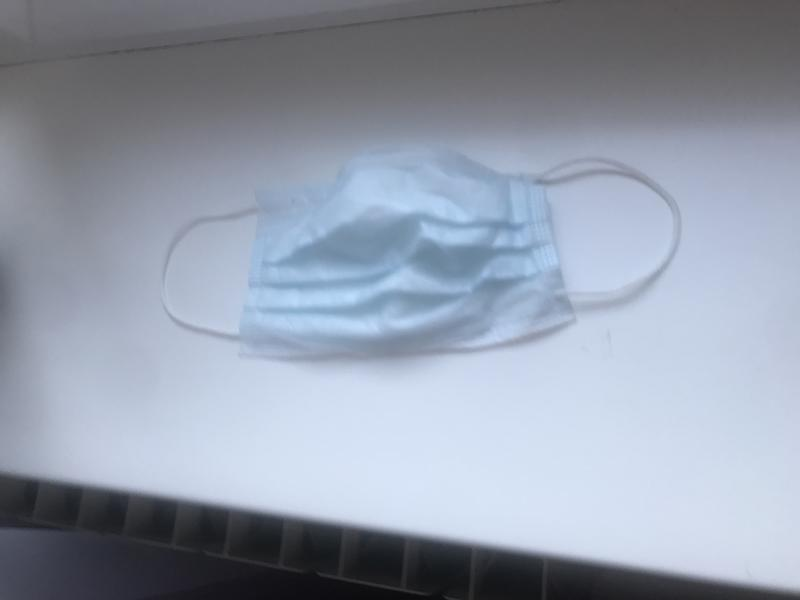medical_mask: (158, 152, 678, 356)
